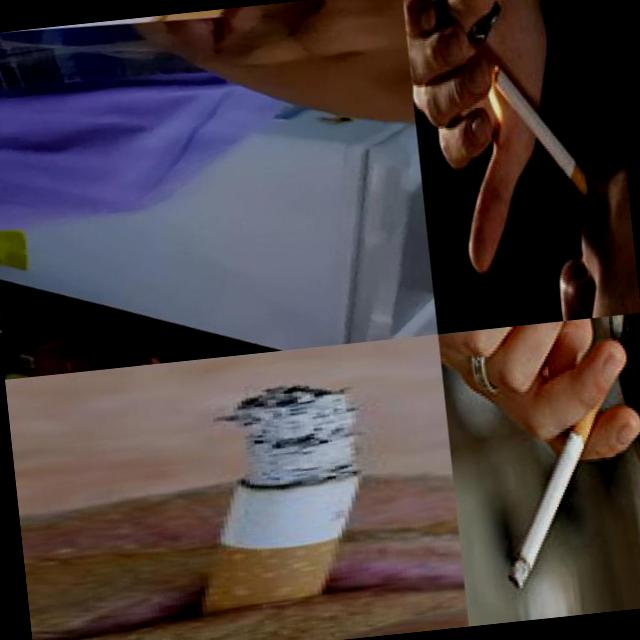cigarette: (159, 376, 377, 638), (491, 434, 599, 600), (491, 58, 594, 212), (0, 8, 231, 43)
